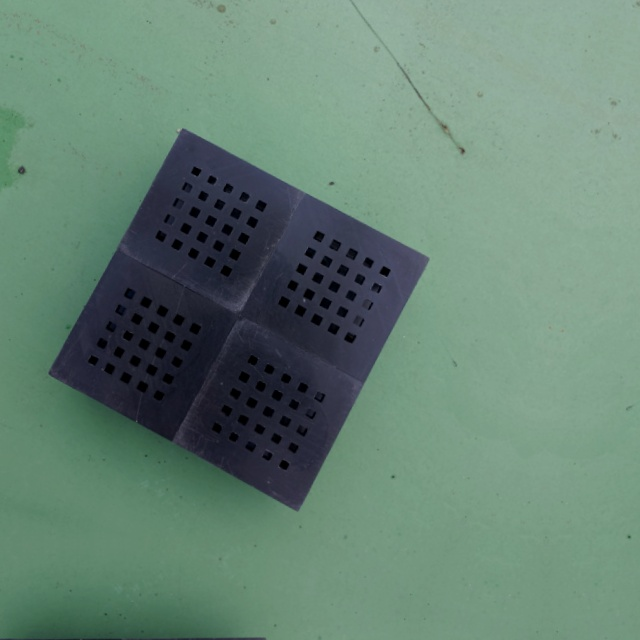pallet: (33, 112, 445, 525)
